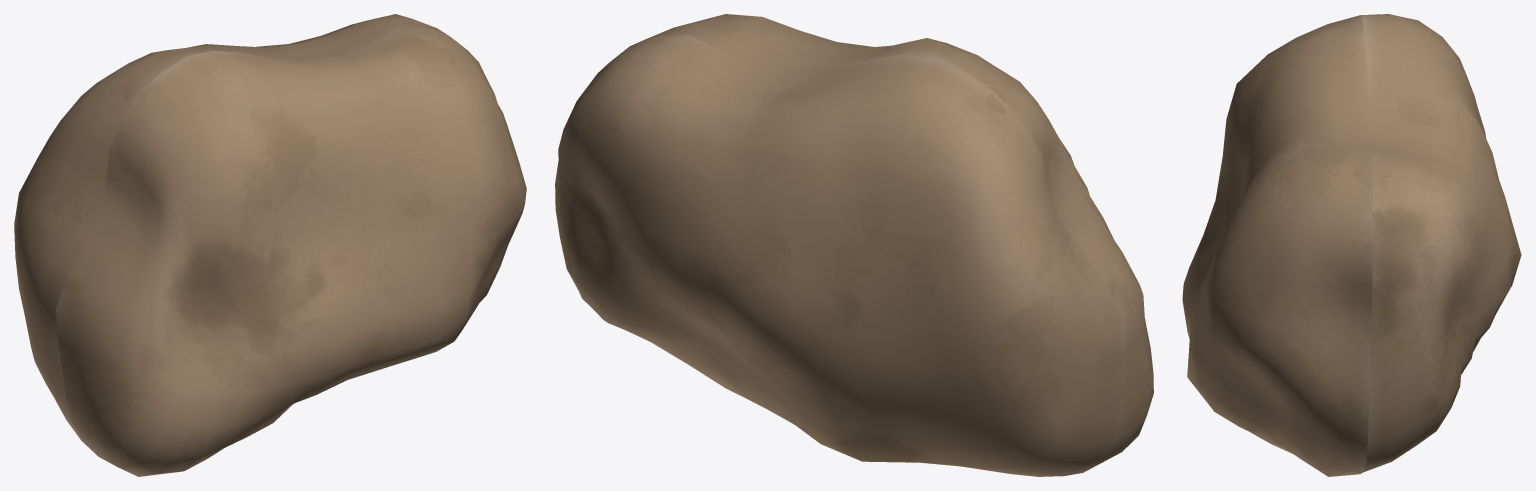
Rendered from Rock1.fbx.
3 renders of one model, left to right at view 1: azimuth 30°, elevation 25°; view 2: azimuth 150°, elevation 25°; view 3: azimuth 270°, elevation 25°, orthographic. The views are drawn at different scales.
Parts seen in each view (by area): view 1: Cube.004; view 2: Cube.004; view 3: Cube.004.
Part boxes in pixels (<box>): Cube.004: <box>14,14,526,476</box>; Cube.004: <box>555,14,1153,476</box>; Cube.004: <box>1182,14,1521,476</box>.
Bounding box in the file's own units: 312 × 232 × 187.
1 material, 1 textured.
